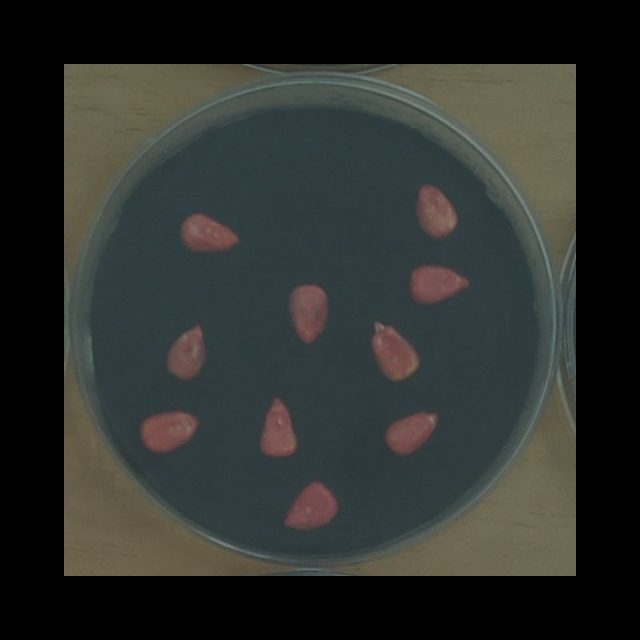Zea mays: (364, 315, 427, 388), (278, 475, 344, 538), (378, 405, 447, 464), (252, 390, 306, 465), (282, 277, 336, 352), (401, 257, 476, 311), (133, 405, 207, 459), (408, 177, 465, 245), (159, 316, 212, 388), (173, 207, 244, 259)
